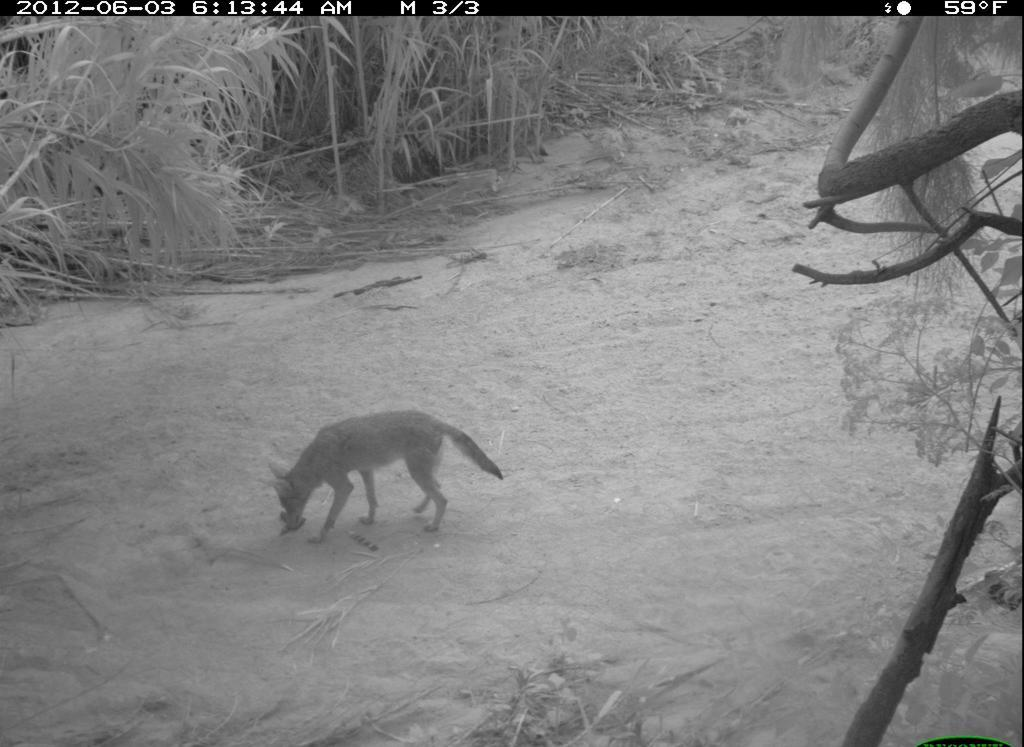coyote: (260, 406, 511, 560)
